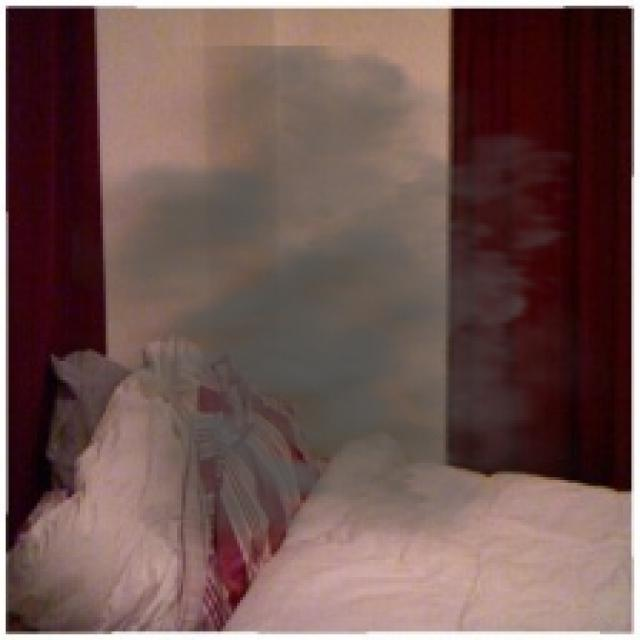smoke: (71, 46, 628, 583)
